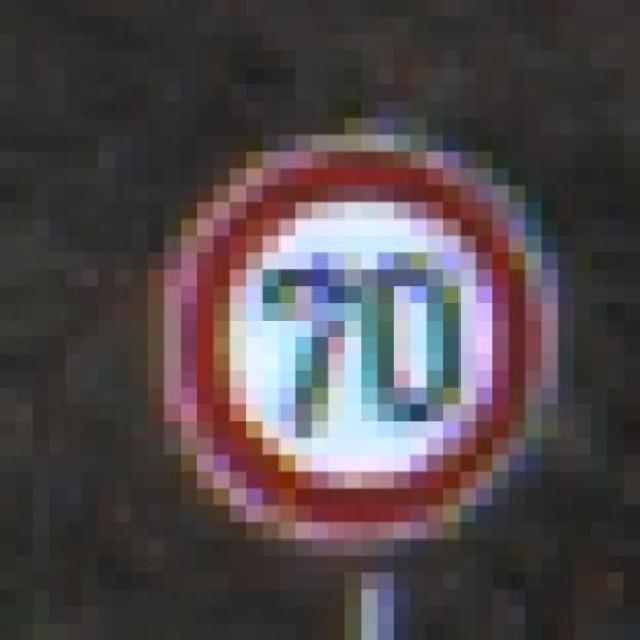forb_speed_over_70: (185, 142, 544, 526)
